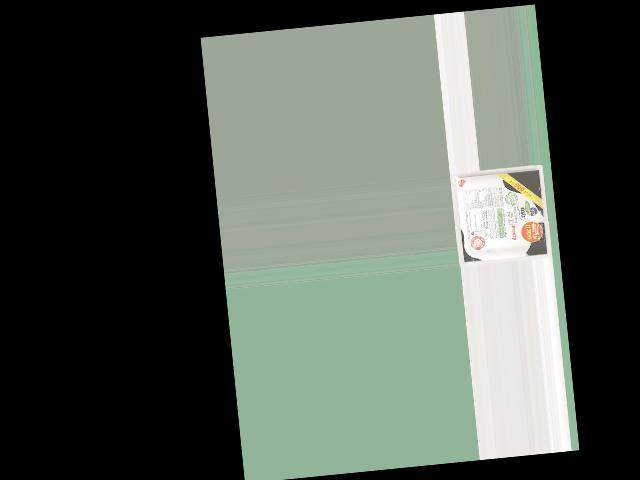cheese: (457, 165, 545, 263)
